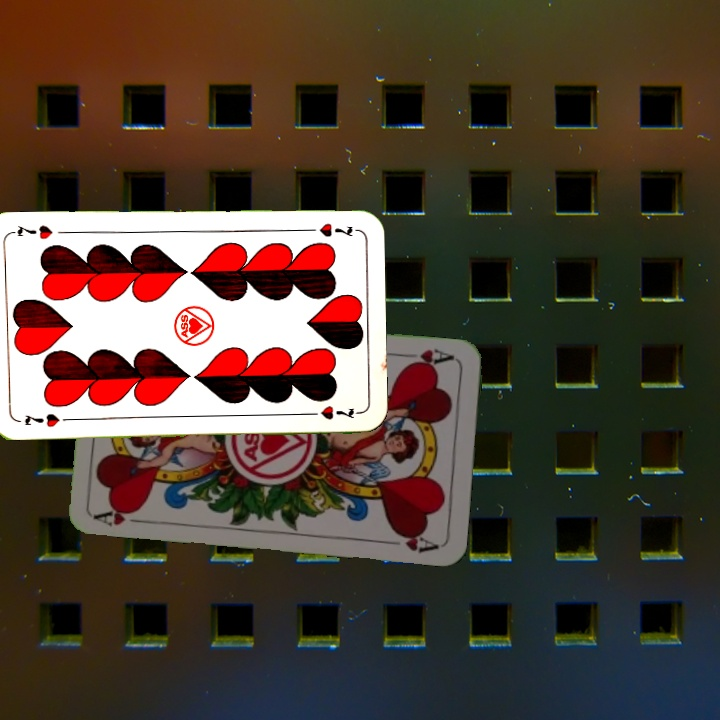H7: (299, 219, 355, 240), (20, 409, 62, 430)
HA: (92, 501, 151, 528), (398, 345, 457, 371)
